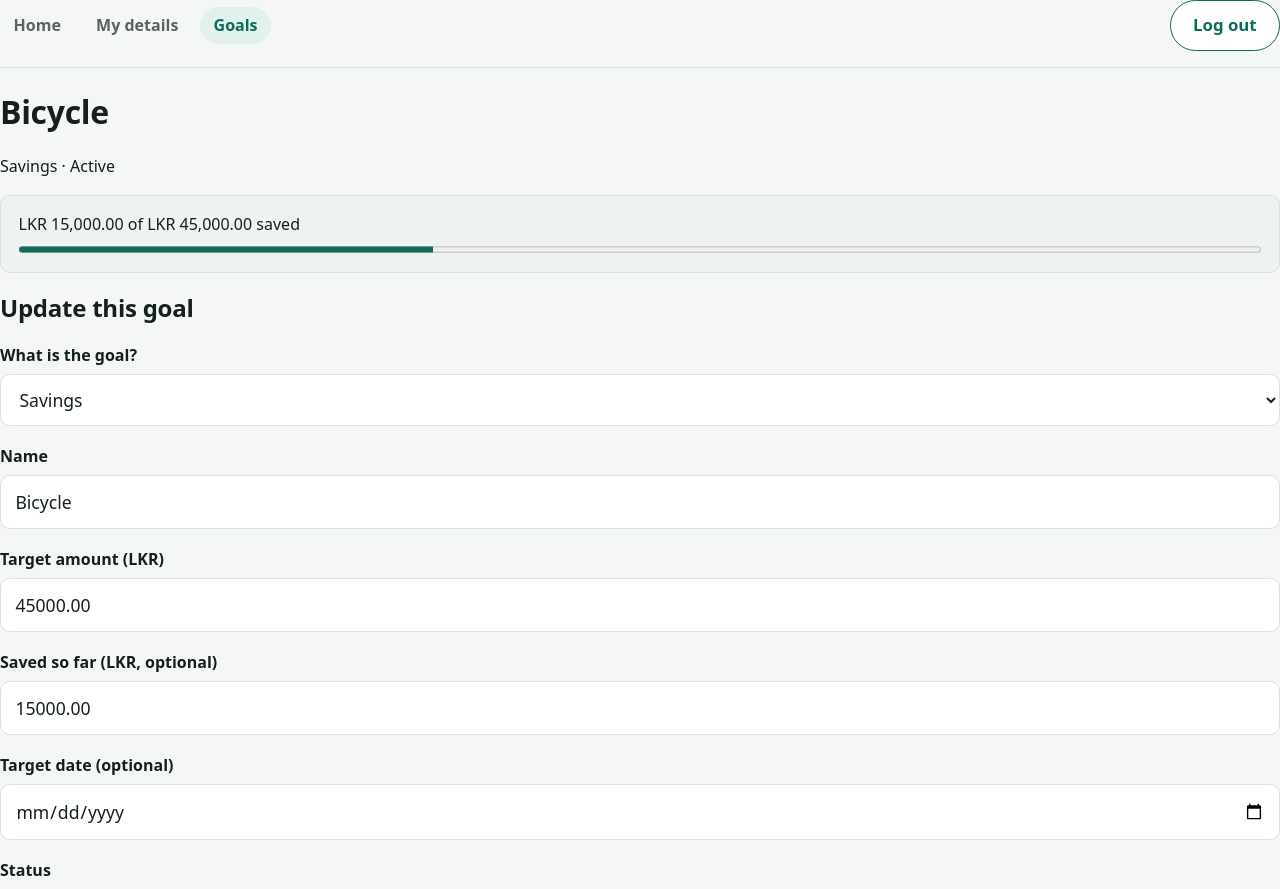
Test: /goals/:goalId › shows one goal and updates it through PATCH /me/goals/:goalId
The width and height of the screenshot is (1280, 889).
Check: the heading "Bicycle" is shown, box [0,90,109,133]
Replace the text in the field labelled "Saved so far (LKR, optional)" with "20000" at (640, 708), box [0,681,1279,735]
(page scrolled)
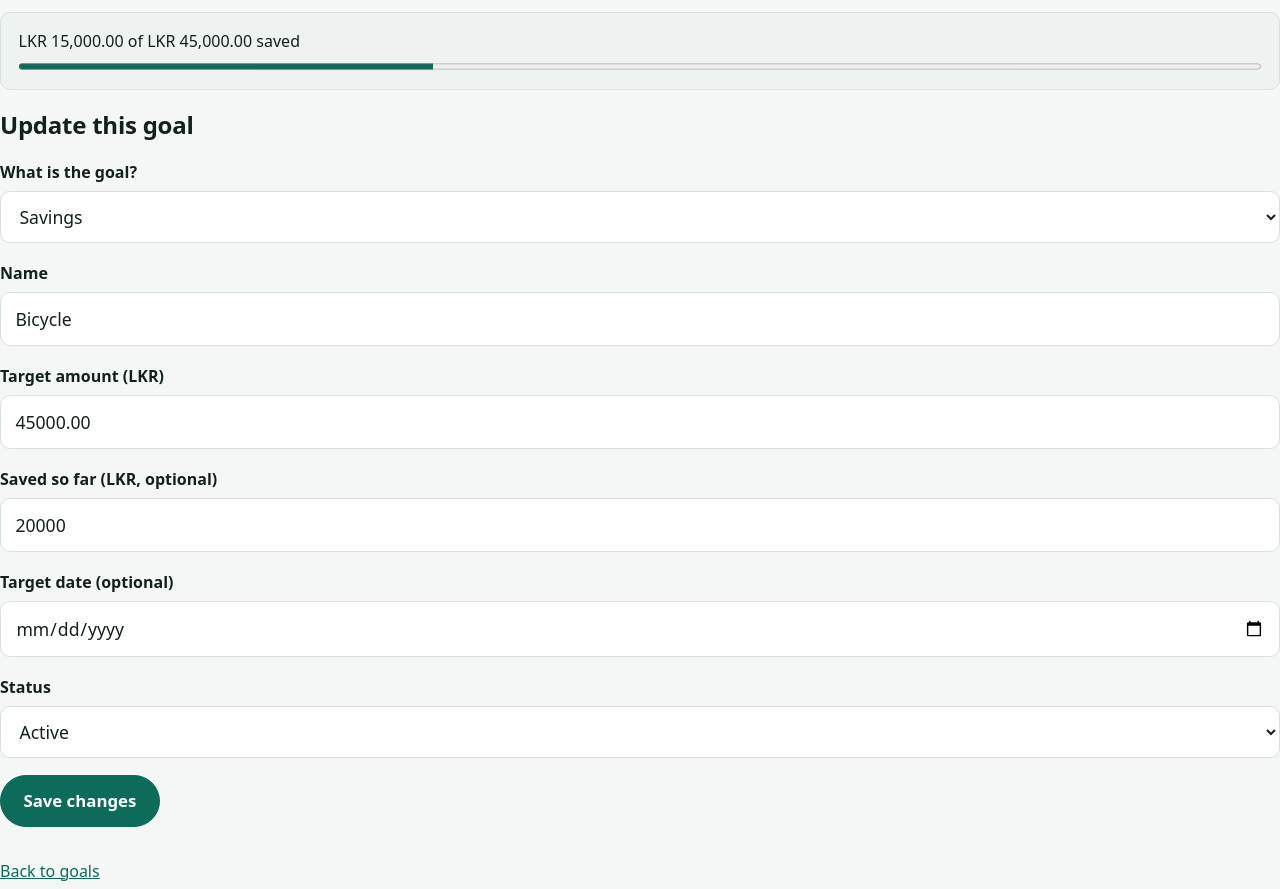
Select "Completed" in the dropdown labelled "Status" at (640, 732), box [0,706,1279,758]
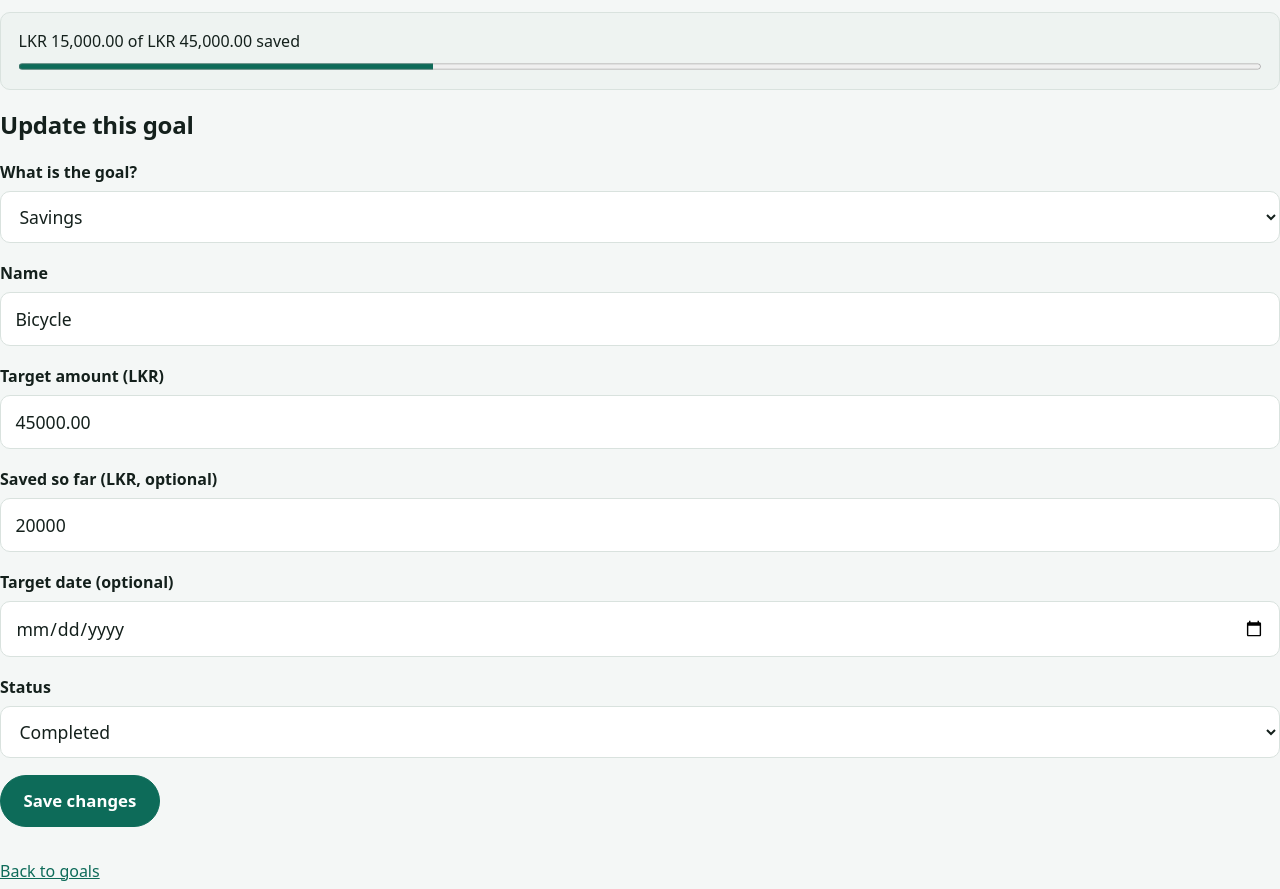
Click the button "Save changes" at (80, 801), box [0,775,160,827]
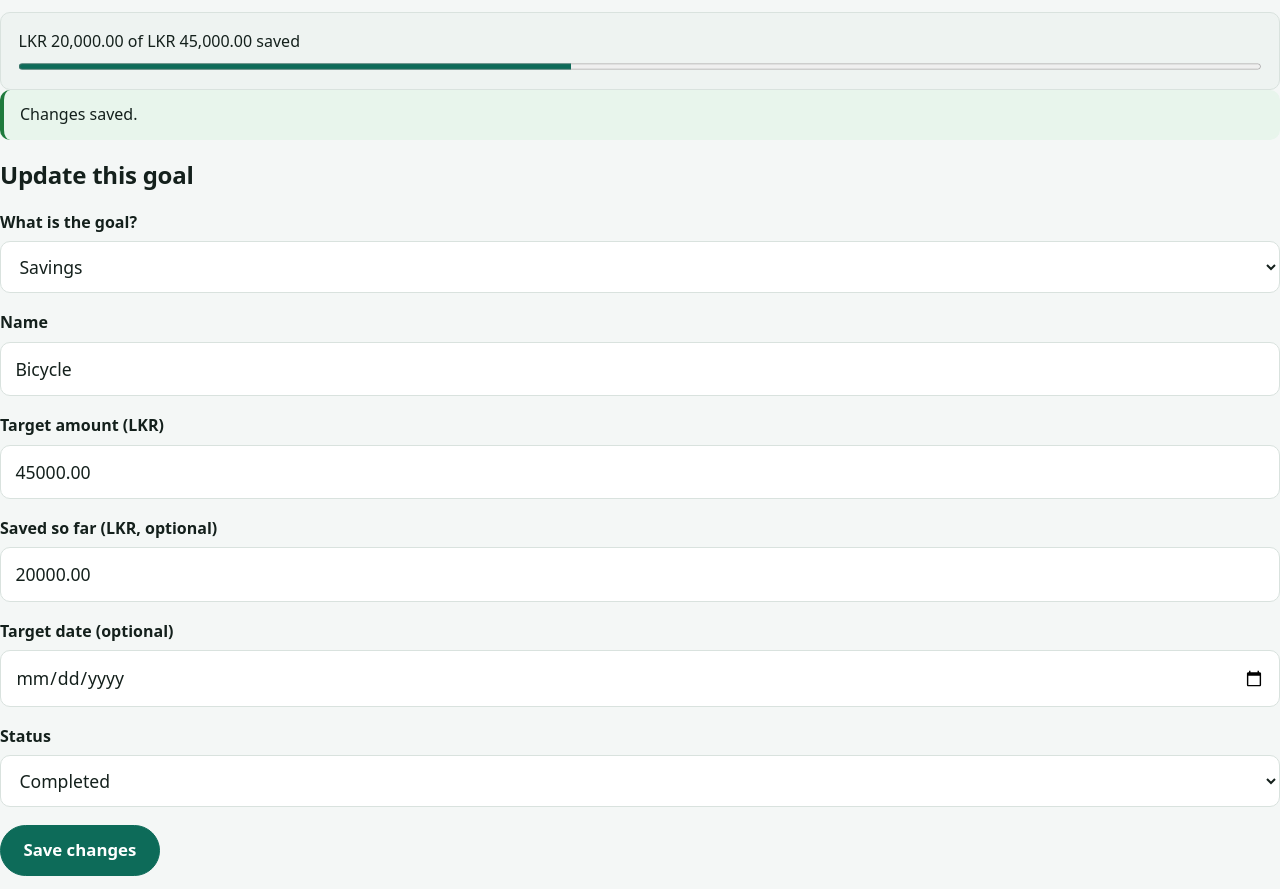
Check: the text "Changes saved." is shown, box [0,90,1279,140]
Check: the text "LKR 20,000.00 of LKR 45,000.00 saved" is shown, box [19,30,300,52]
